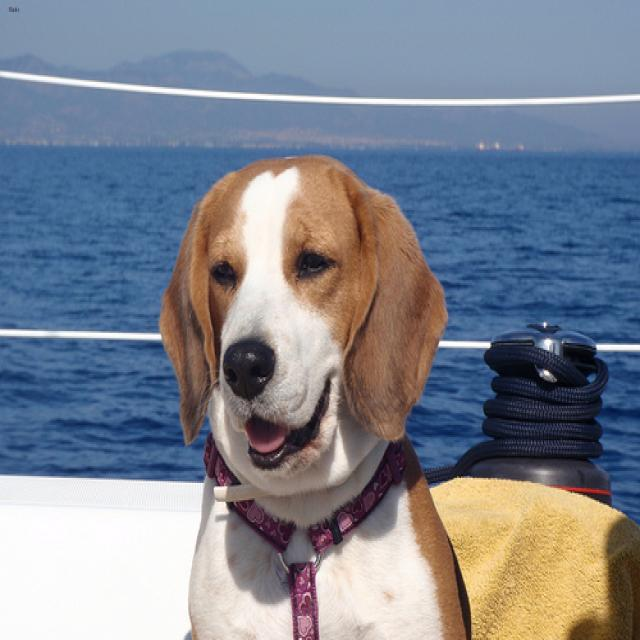dog-beagle: (151, 142, 479, 637)
